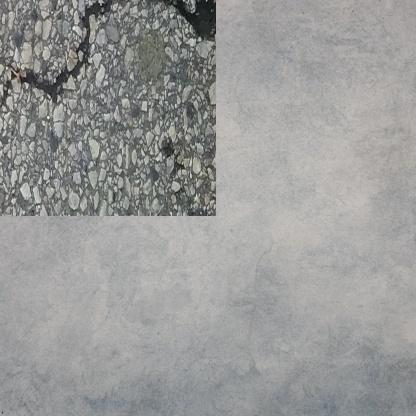Cracks: (5, 0, 110, 88), (140, 0, 200, 32)
